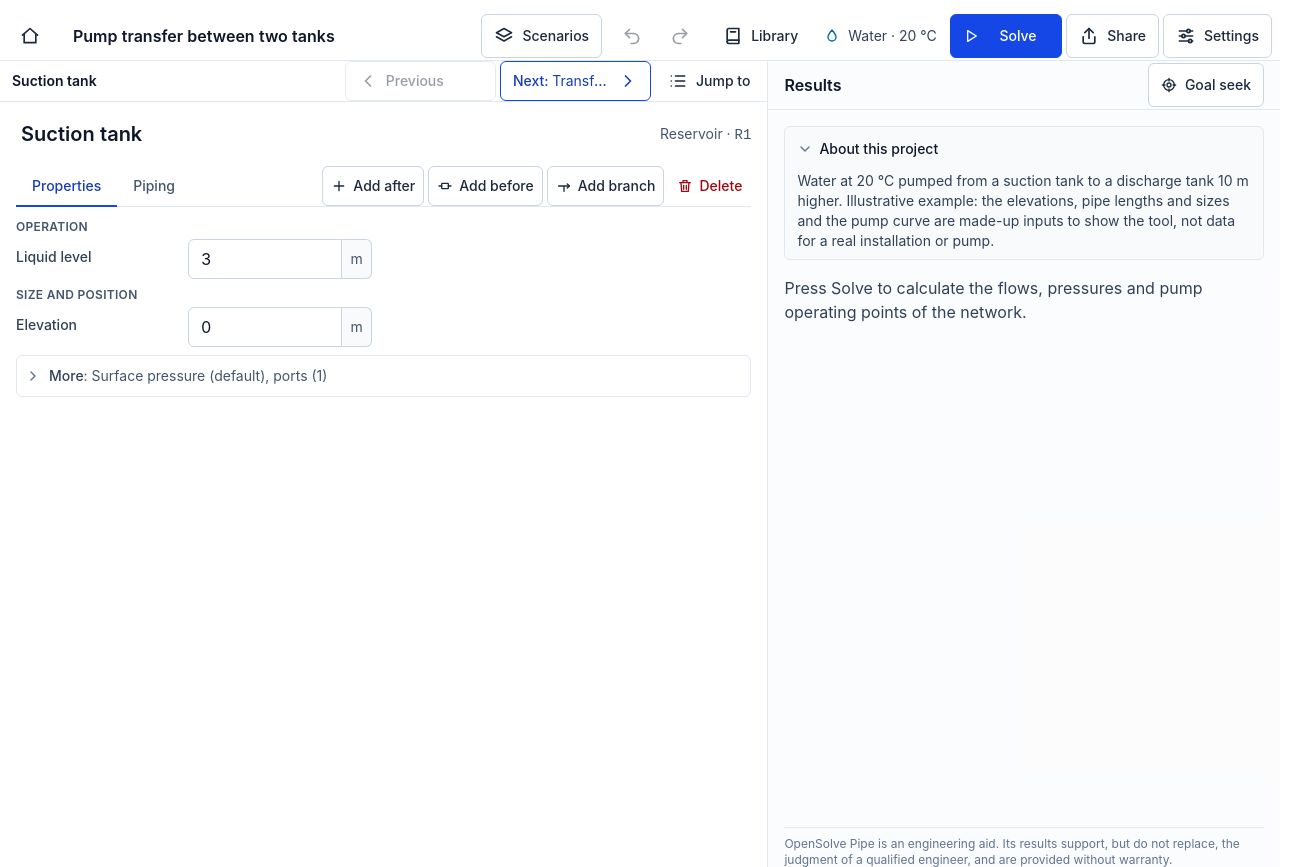
Test case: flags summary › groups flags by severity, each with an icon and text
This screenshot has width=1292, height=867.
What coordinates should you click on to do the following:
click the button "Solve"
I would click on:
 (1006, 36)
Its box is top-left (950, 14), bottom-right (1062, 58).
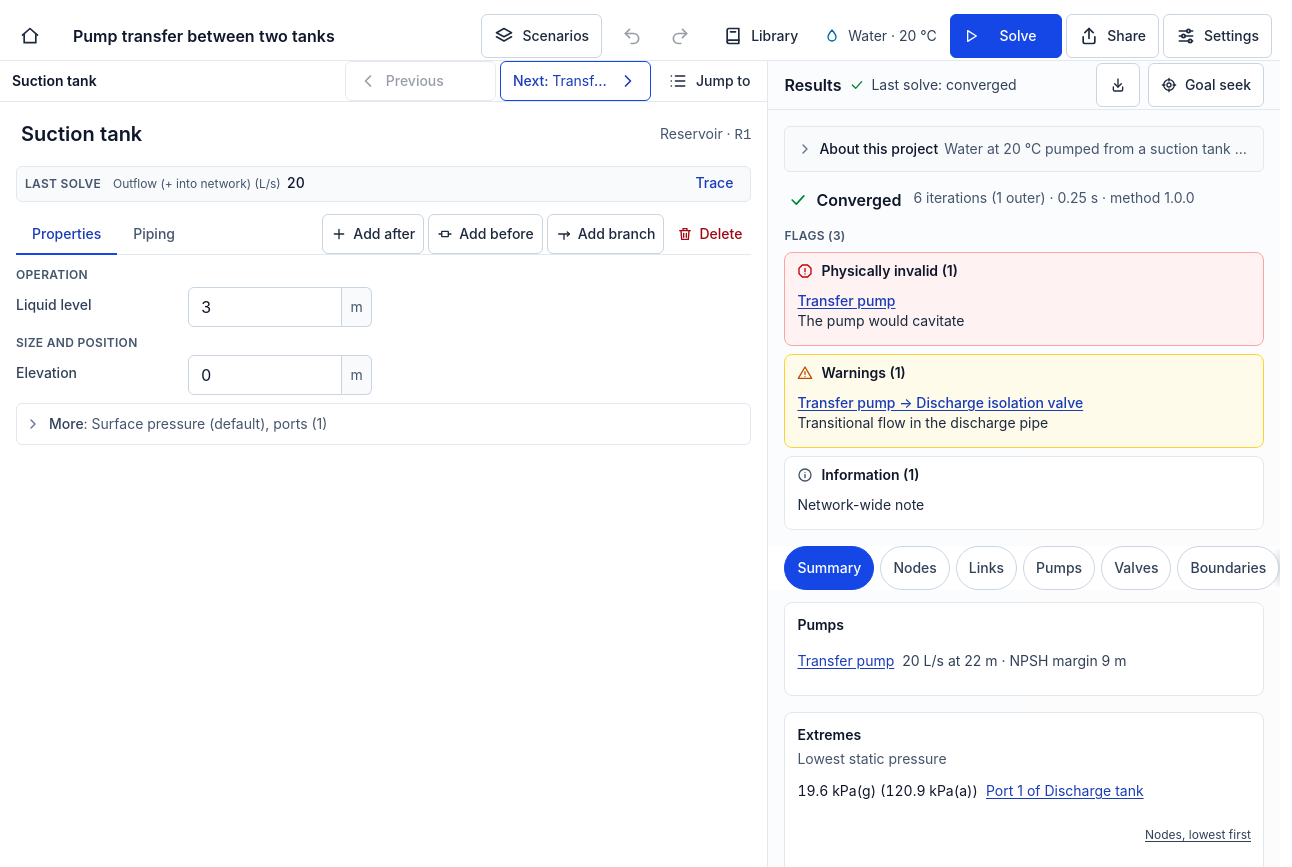
Now the headings read "Physically invalid (1)", "Warnings (1)", "Information (1)", in this order, box top-left (797, 262), bottom-right (958, 279); top-left (797, 364), bottom-right (906, 381); top-left (797, 466), bottom-right (919, 483)
Now the text "The pump would cavitate" is shown, box top-left (797, 311), bottom-right (964, 331)
